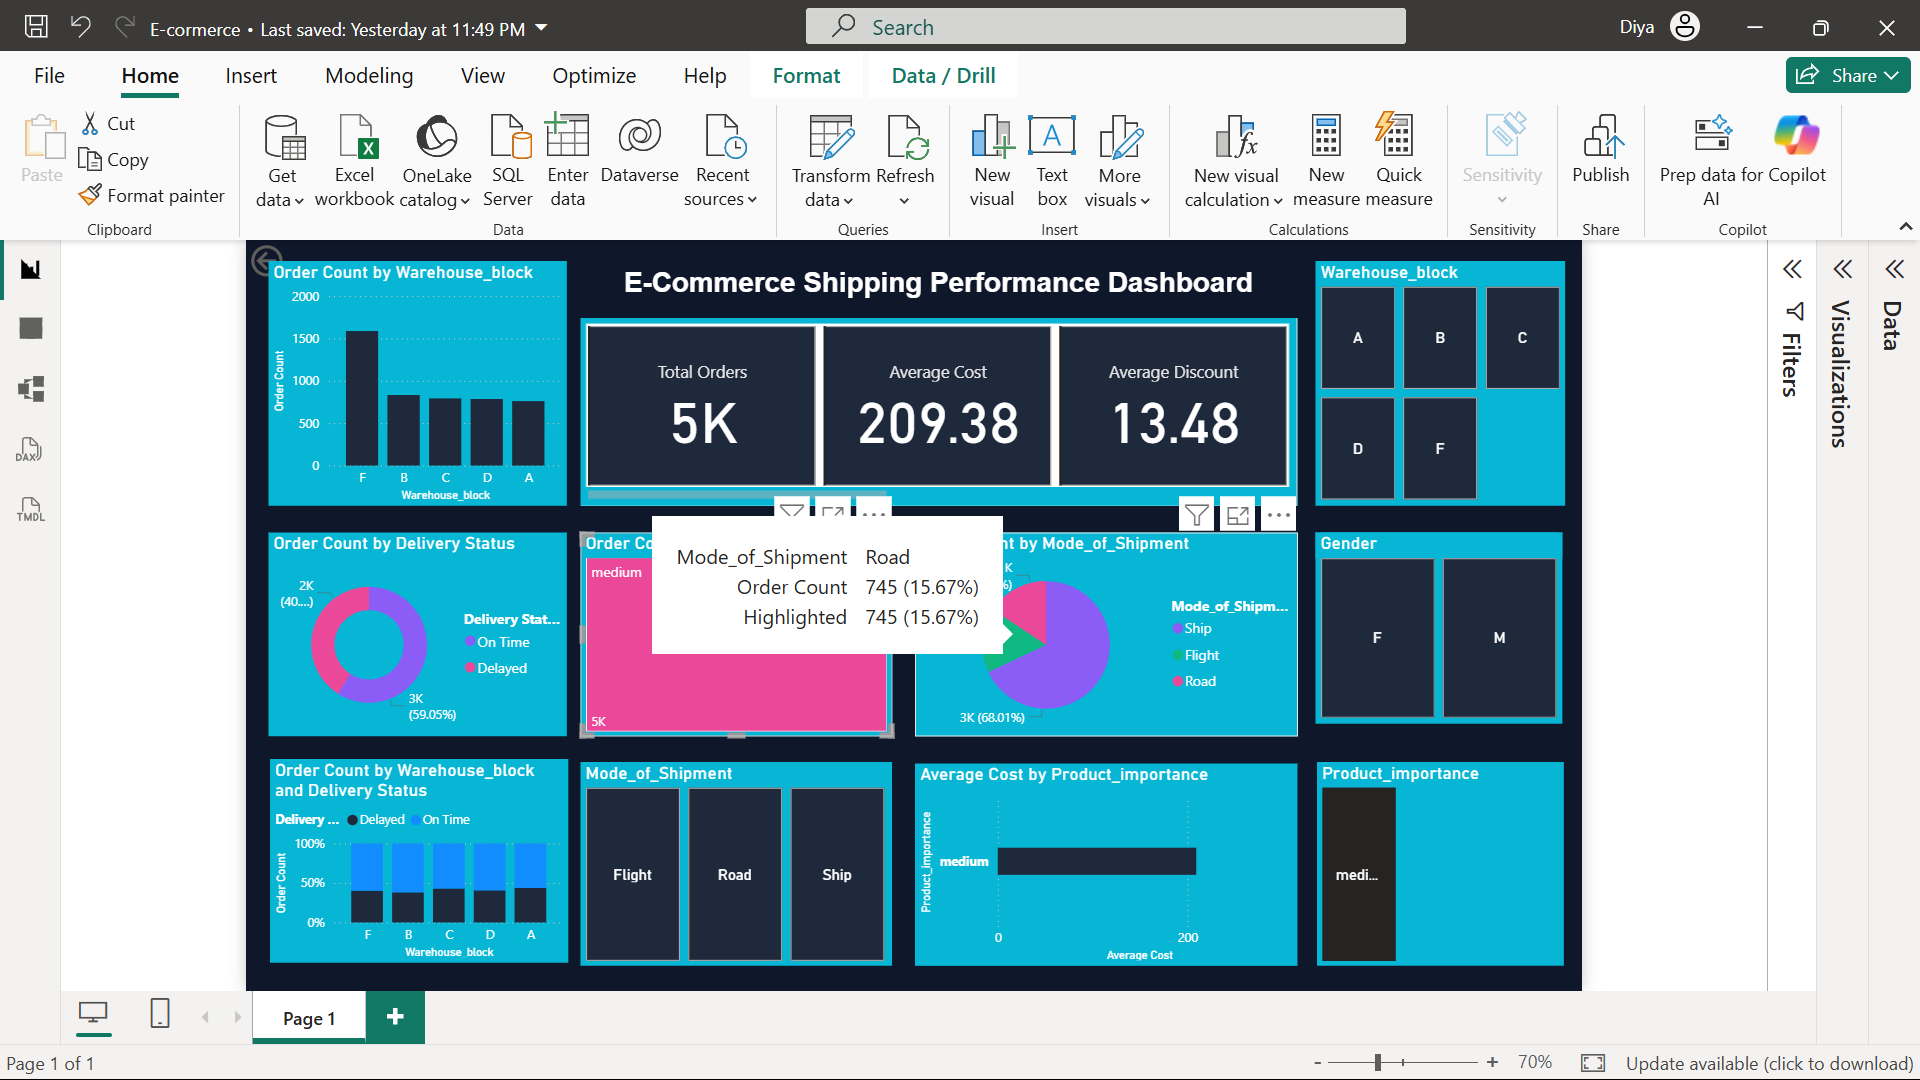

Layout of this report page (visuals, bound fields, positions):
{"tool":"powerbi","page":{"name":"Page 1","canvas":[1280,720],"ordinal":0},"visuals":[{"type":"cardVisual","fields":{"Data":["Ecommerce Shipping Data.Total Orders","Ecommerce Shipping Data.Average Cost","Ecommerce Shipping Data.Average Discount","Ecommerce Shipping Data.Average Rating","Ecommerce Shipping Data.Average Weight","Ecommerce Shipping Data.Delayed %","Ecommerce Shipping Data.On Time %"]},"box":[321.2,74.2,686.4,180.3],"z":0},{"type":"actionButton","box":[0,0,100,40],"z":1000},{"type":"treemap","fields":{"Group":["Ecommerce Shipping Data.Product_importance"],"Values":["Ecommerce Shipping Data.Order Count"]},"box":[321.2,280.3,298.5,195.5],"z":2000},{"type":"clusteredColumnChart","fields":{"Category":["Ecommerce Shipping Data.Warehouse_block"],"Y":["Ecommerce Shipping Data.Order Count"]},"box":[21.2,19.7,286.2,234.7],"z":3000},{"type":"pieChart","fields":{"Category":["Ecommerce Shipping Data.Mode_of_Shipment"],"Y":["Ecommerce Shipping Data.Order Count"]},"box":[640.9,280.3,366.7,195.5],"z":4000},{"type":"donutChart","fields":{"Category":["Ecommerce Shipping Data.Delivery Status"],"Y":["Ecommerce Shipping Data.Order Count"]},"box":[21.2,280.1,286.2,195.3],"z":5000},{"type":"hundredPercentStackedColumnChart","fields":{"Category":["Ecommerce Shipping Data.Warehouse_block"],"Y":["Ecommerce Shipping Data.Order Count"],"Series":["Ecommerce Shipping Data.Delivery Status"]},"box":[22.7,498.2,286.2,195.3],"z":6000},{"type":"advancedSlicerVisual","fields":{"Values":["Ecommerce Shipping Data.Warehouse_block"]},"box":[1025.8,19.7,239.4,234.8],"z":7000},{"type":"advancedSlicerVisual","fields":{"Values":["Ecommerce Shipping Data.Mode_of_Shipment"]},"box":[321.2,500,298.5,195.5],"z":8000},{"type":"advancedSlicerVisual","fields":{"Values":["Ecommerce Shipping Data.Gender"]},"box":[1025.8,280.3,236.4,183.3],"z":9000},{"type":"advancedSlicerVisual","fields":{"Values":["Ecommerce Shipping Data.Product_importance"]},"box":[1027.3,500,236.4,195.5],"z":10000},{"type":"clusteredBarChart","fields":{"Category":["Ecommerce Shipping Data.Product_importance"],"Y":["Ecommerce Shipping Data.Average Cost"]},"box":[640.9,501.5,366.7,193.9],"z":11000},{"type":"textbox","box":[321.2,19.7,686.4,43.9],"z":12000}]}

Visuals, with their boxes on the page's 1280x720 design canvas (x1, y1, x2, y2). These are canvas units, not pixel positions in the 1920x1080 screenshot, which may show the page scaled, cropped or inside an application window:
cardVisual - Ecommerce Shipping Data.Total Orders x Ecommerce Shipping Data.Average Cost: <bbox>321, 74, 1008, 254</bbox>
actionButton: <bbox>0, 0, 100, 40</bbox>
treemap - Ecommerce Shipping Data.Product_importance x Ecommerce Shipping Data.Order Count: <bbox>321, 280, 620, 476</bbox>
clusteredColumnChart - Ecommerce Shipping Data.Warehouse_block x Ecommerce Shipping Data.Order Count: <bbox>21, 20, 307, 254</bbox>
pieChart - Ecommerce Shipping Data.Mode_of_Shipment x Ecommerce Shipping Data.Order Count: <bbox>641, 280, 1008, 476</bbox>
donutChart - Ecommerce Shipping Data.Delivery Status x Ecommerce Shipping Data.Order Count: <bbox>21, 280, 307, 475</bbox>
hundredPercentStackedColumnChart - Ecommerce Shipping Data.Warehouse_block x Ecommerce Shipping Data.Order Count: <bbox>23, 498, 309, 694</bbox>
advancedSlicerVisual - Ecommerce Shipping Data.Warehouse_block: <bbox>1026, 20, 1265, 254</bbox>
advancedSlicerVisual - Ecommerce Shipping Data.Mode_of_Shipment: <bbox>321, 500, 620, 696</bbox>
advancedSlicerVisual - Ecommerce Shipping Data.Gender: <bbox>1026, 280, 1262, 464</bbox>
advancedSlicerVisual - Ecommerce Shipping Data.Product_importance: <bbox>1027, 500, 1264, 696</bbox>
clusteredBarChart - Ecommerce Shipping Data.Product_importance x Ecommerce Shipping Data.Average Cost: <bbox>641, 502, 1008, 695</bbox>
textbox: <bbox>321, 20, 1008, 64</bbox>
